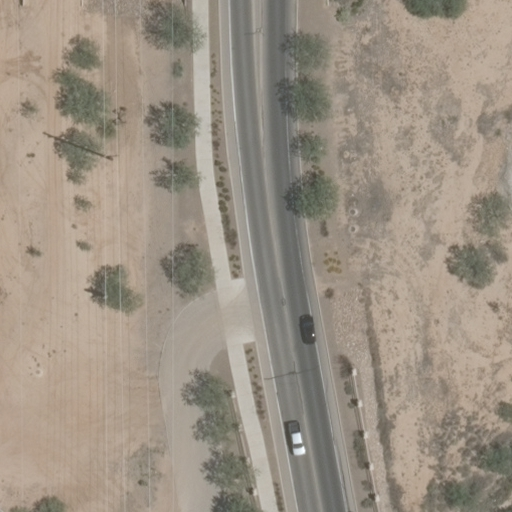DT: (101, 148, 125, 167)
